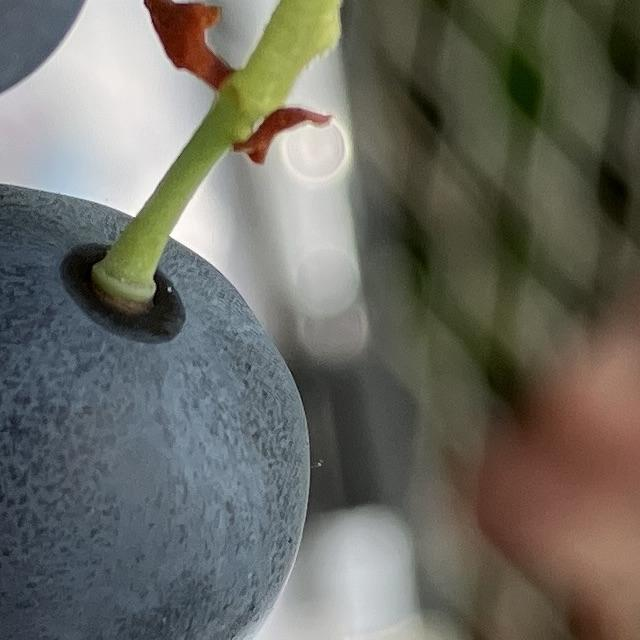Blueberries: (0, 175, 313, 640)
